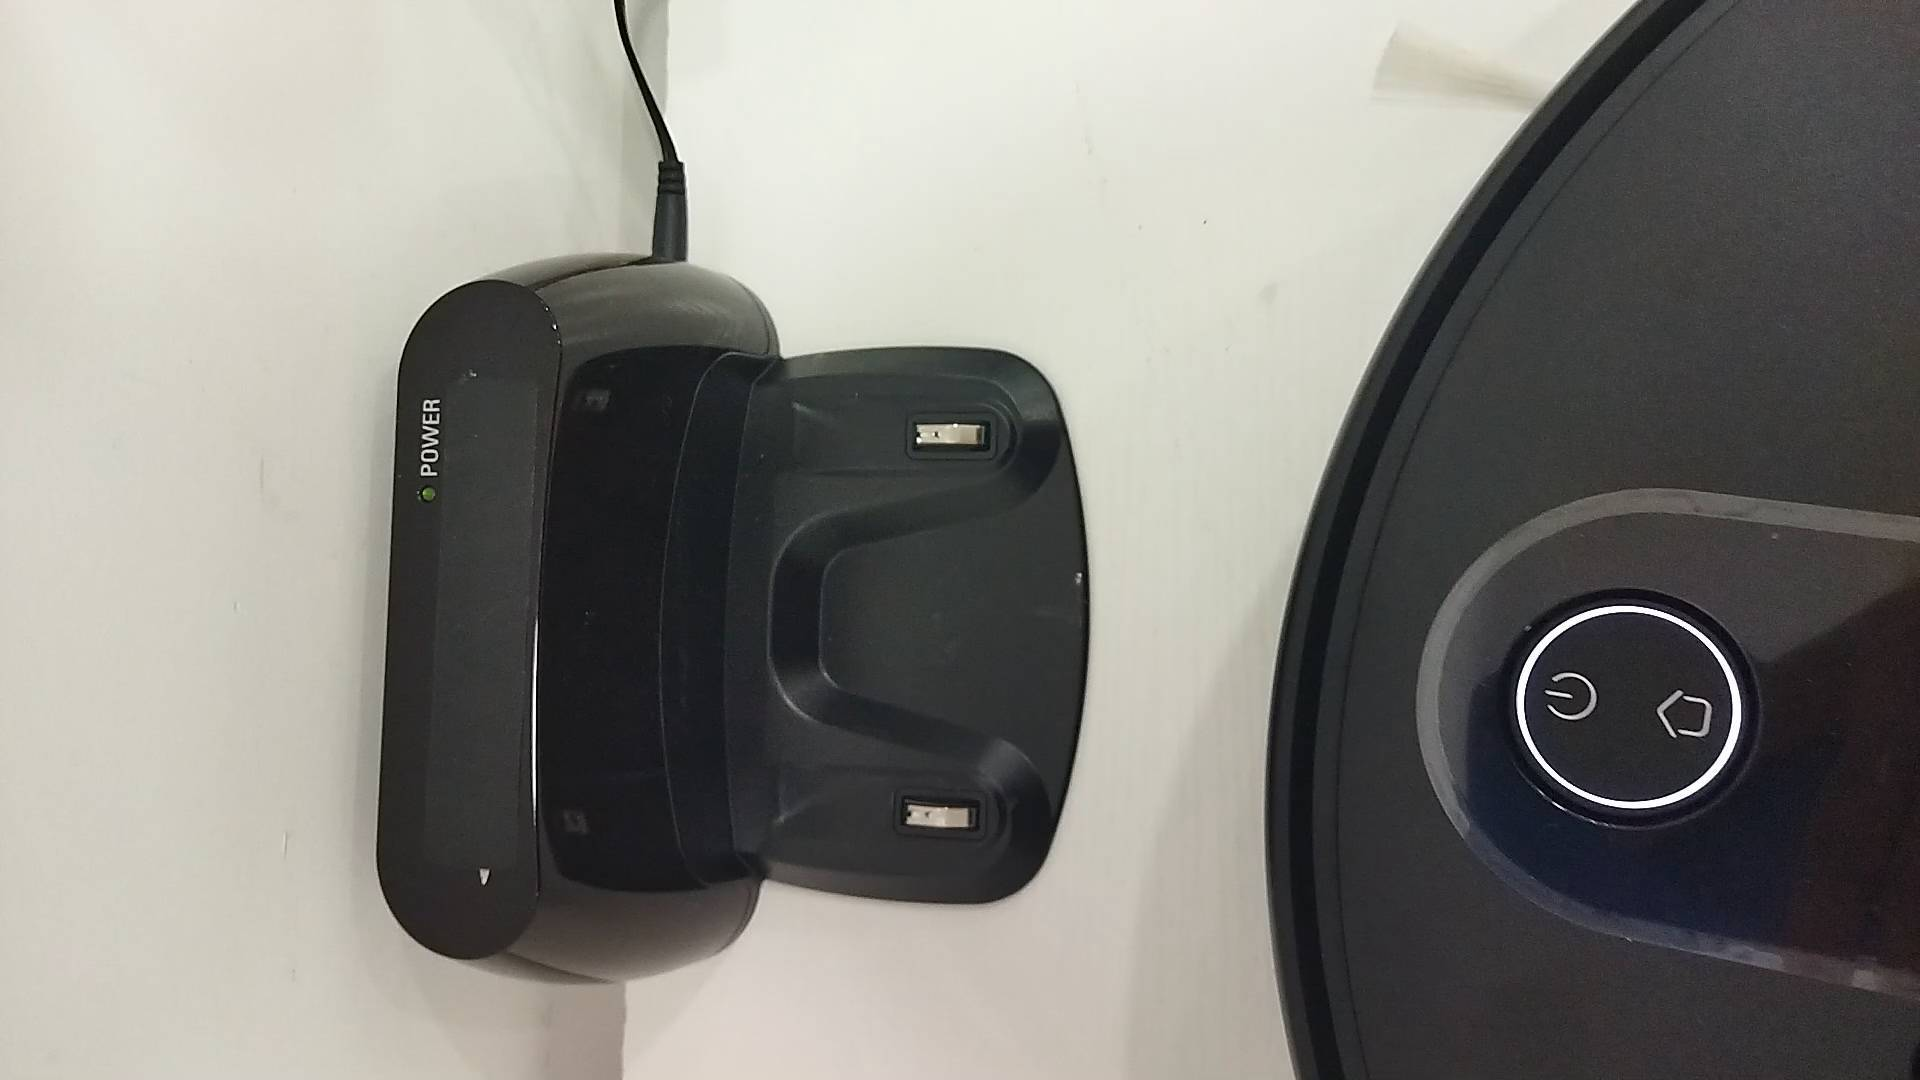recharge seat: (376, 251, 1092, 986)
